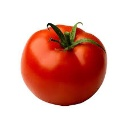tomato: (21, 24, 107, 105)
